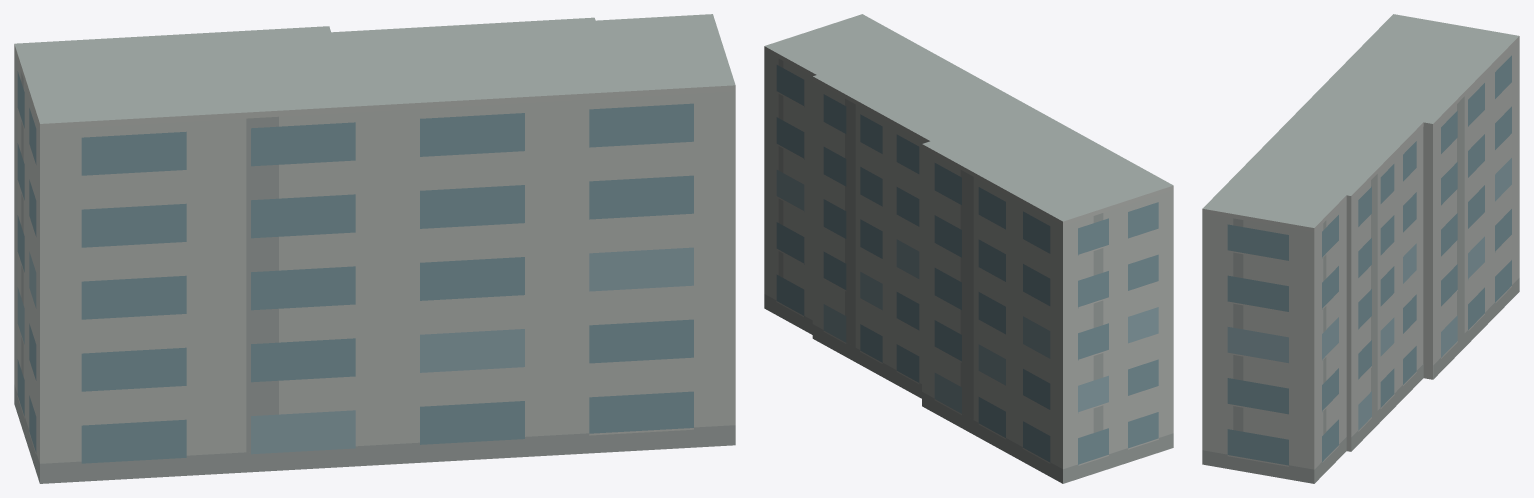
File: survey-upis-32933257.glb
3 views of the same model, side by side, from view 1: azimuth 30°, elevation 25°; view 2: azimuth 150°, elevation 25°; view 3: azimuth 270°, elevation 25° (orthographic). The views are drawn at different scales.
Parts seen in each view (by area): view 1: survey-upis-32933257.tmp; view 2: survey-upis-32933257.tmp; view 3: survey-upis-32933257.tmp.
Part boxes in pixels (box(x1,y1,x2,y2)): survey-upis-32933257.tmp: box(14, 14, 735, 483); survey-upis-32933257.tmp: box(764, 14, 1173, 483); survey-upis-32933257.tmp: box(1202, 14, 1519, 483).
Bounding box in the file's own units: 26.04 × 14.5 × 16.3.
